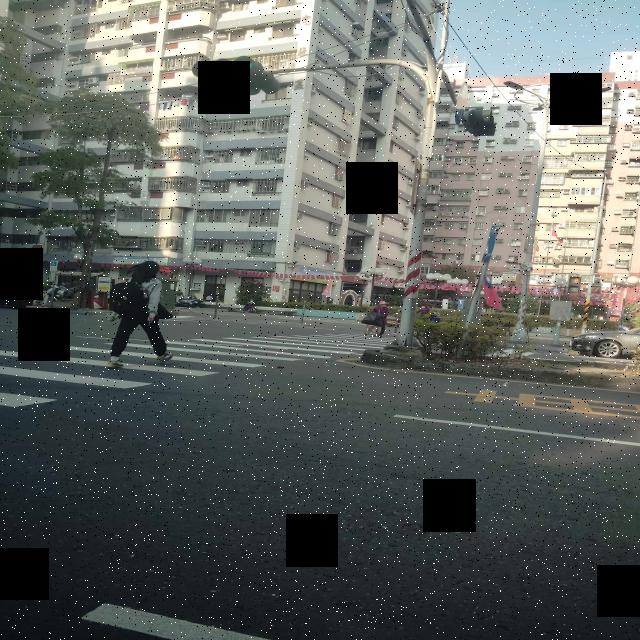zebra_crossing: (215, 160, 640, 480), (183, 156, 559, 472), (68, 163, 209, 490), (336, 161, 390, 508)
